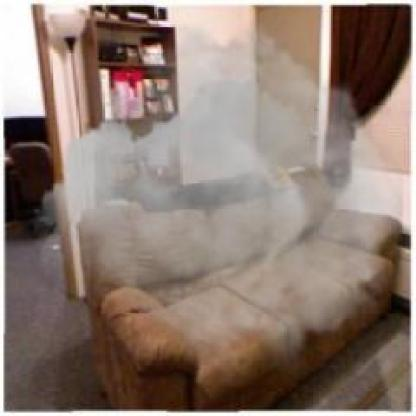Smoke: (34, 12, 403, 376)
